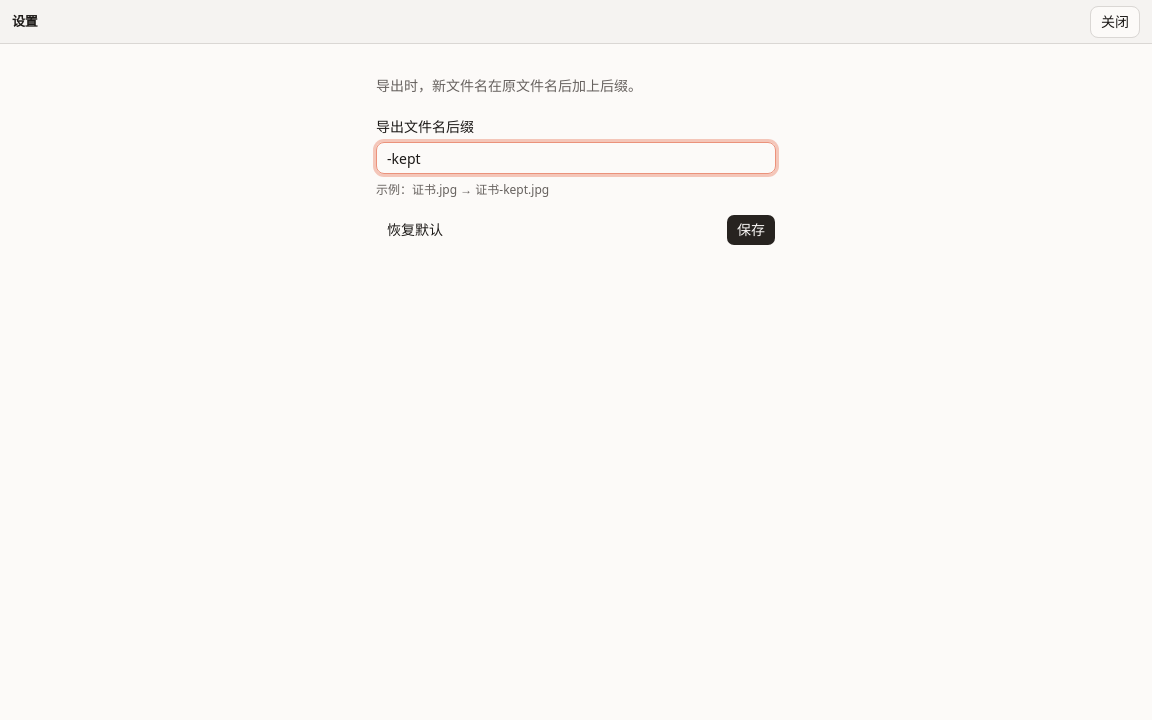
it: SettingsPage › restores the default draft without writing or leaving
The image size is (1152, 720).
Replace the text in the field labelled "导出文件名后缀" with "custom" at (576, 158), box [376,142,776,174]
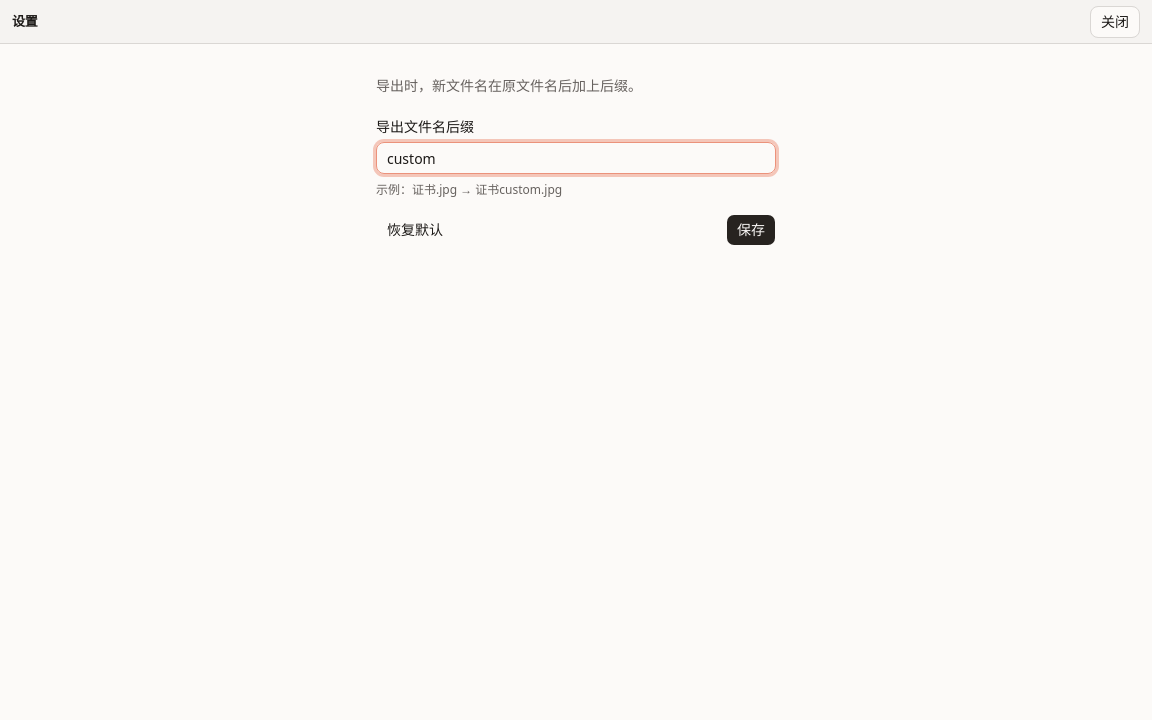
Click the button "恢复默认" at (415, 230), box [376,214,454,246]
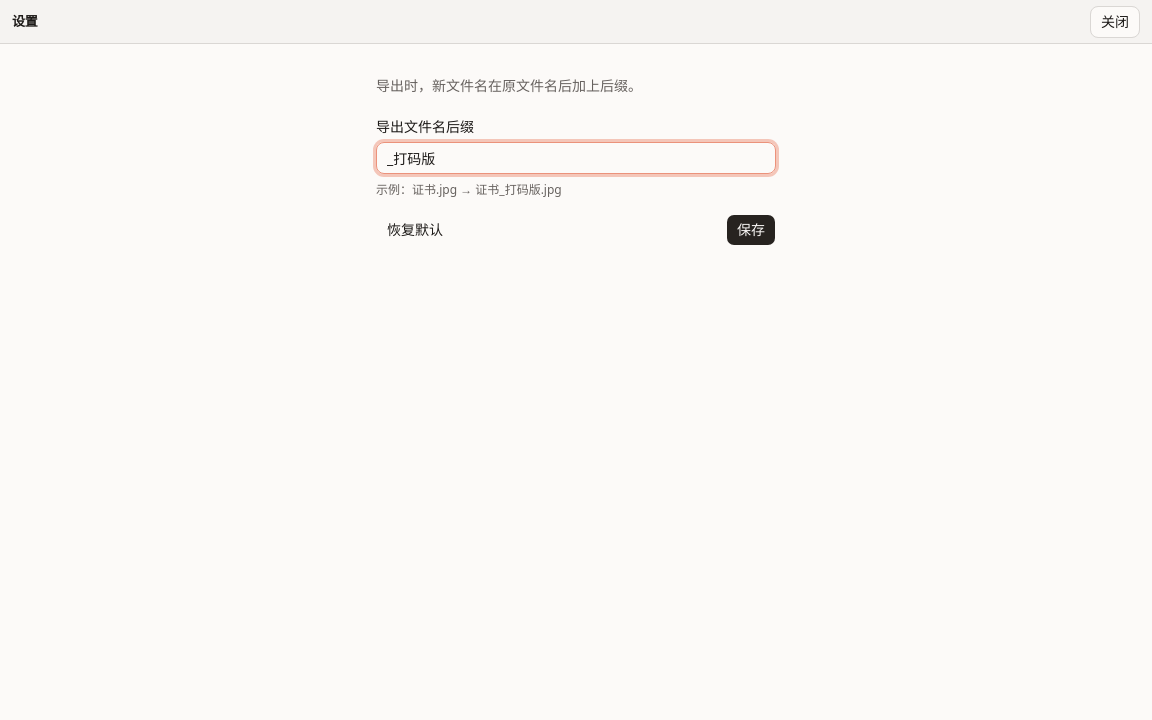
Now the field labelled "导出文件名后缀" holds "_打码版", box [376,142,776,174]
Now the text "示例：证书.jpg → 证书_打码版.jpg" is shown, box [376,181,562,198]
